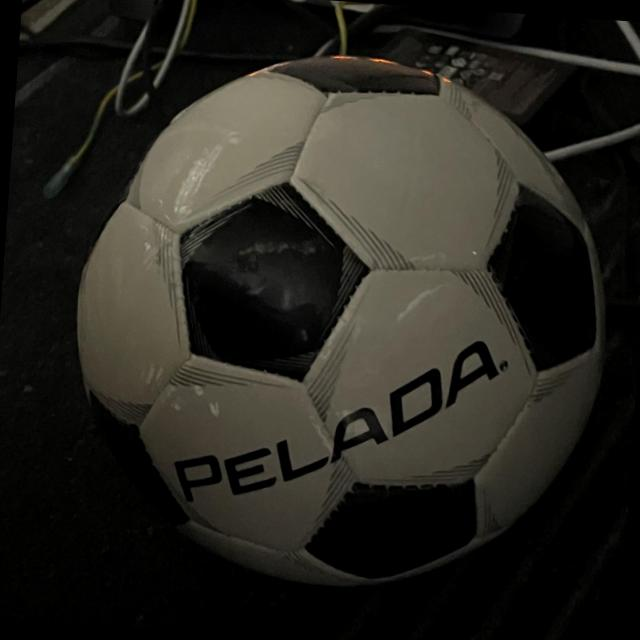Soccer Ball: (56, 37, 621, 608)
